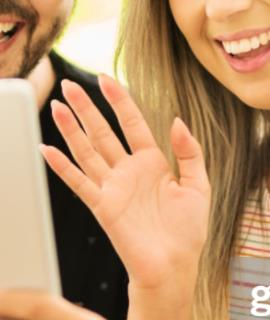down: (37, 76, 210, 278)
